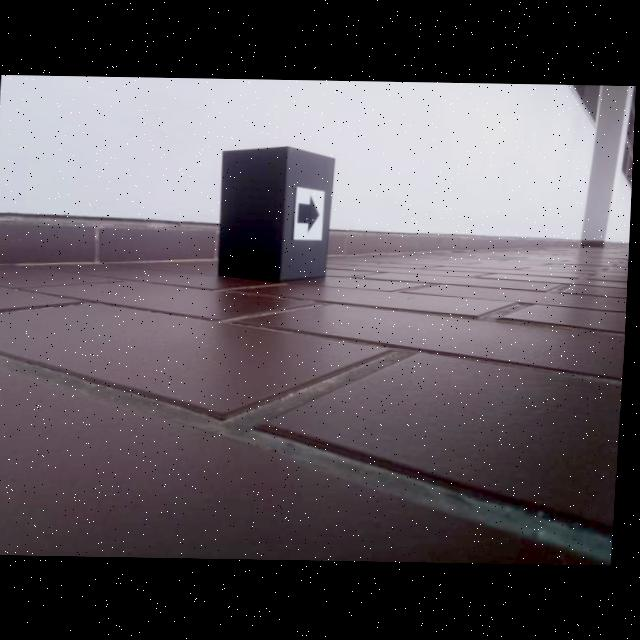RIGHT: (298, 193, 322, 234)
